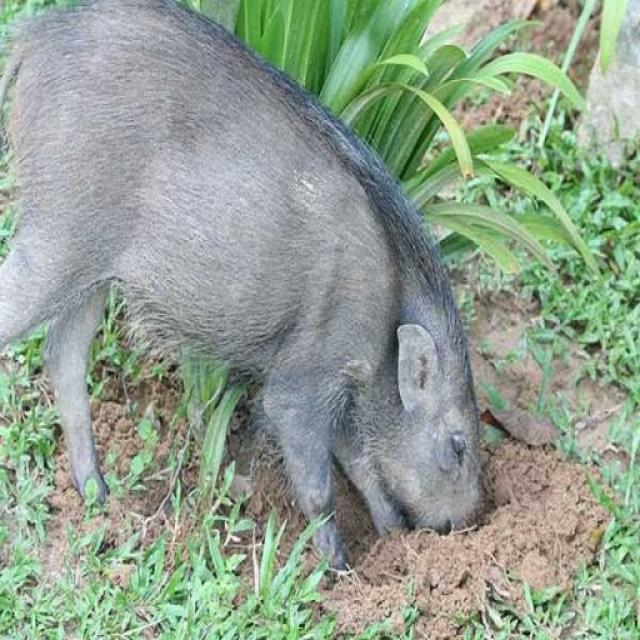pig: (0, 0, 566, 619)
